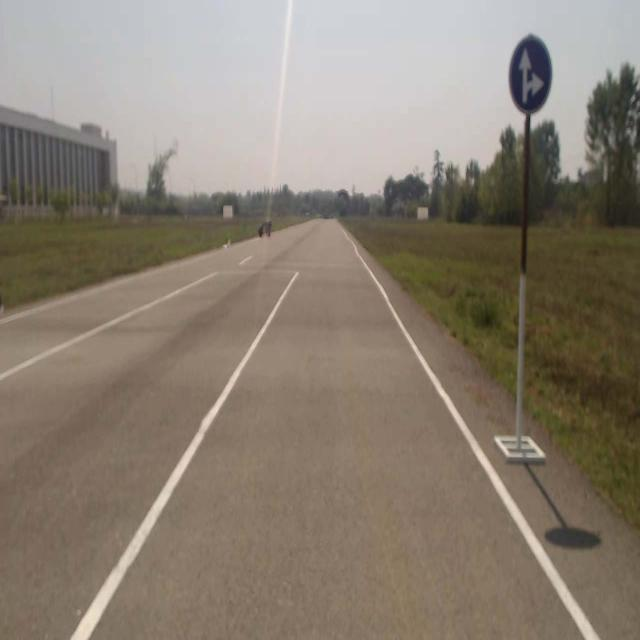ilerisag: (509, 34, 552, 114)
